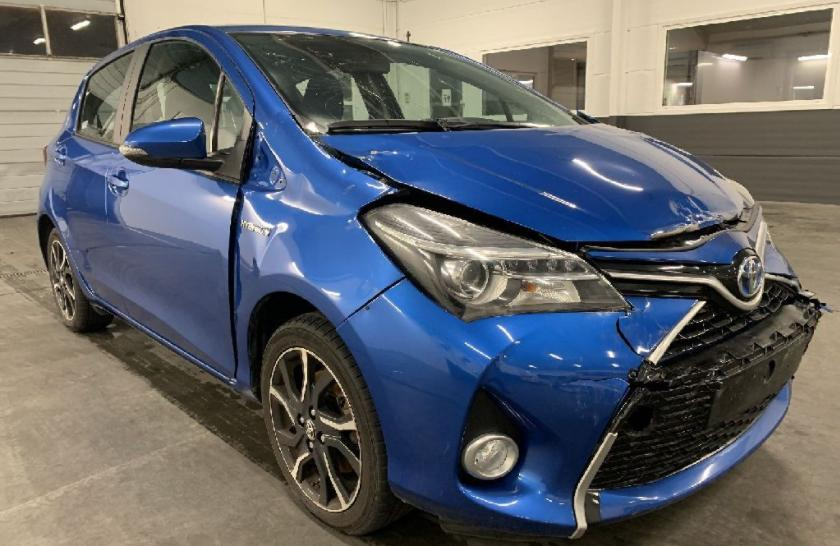Back-door: (49, 38, 147, 316)
Back-wheel: (47, 227, 114, 332)
Back-window: (79, 51, 134, 141)
Fender: (230, 109, 406, 400)
Front-bumper: (336, 205, 821, 539)
Front-door: (106, 30, 255, 380)
Front-wheel: (261, 310, 414, 535)
Front-window: (132, 40, 220, 152), (218, 77, 244, 151)
Grille: (591, 281, 819, 489)
Headlight: (361, 202, 632, 323), (723, 176, 756, 210)
Hood: (310, 115, 744, 243)
Mirror: (118, 105, 254, 179)
Quarter-panel: (37, 123, 98, 308)
Rocker-panel: (95, 295, 232, 386)
Roof: (202, 24, 407, 43)
Tail-light: (42, 145, 49, 167)
Windshield: (228, 32, 590, 134)
